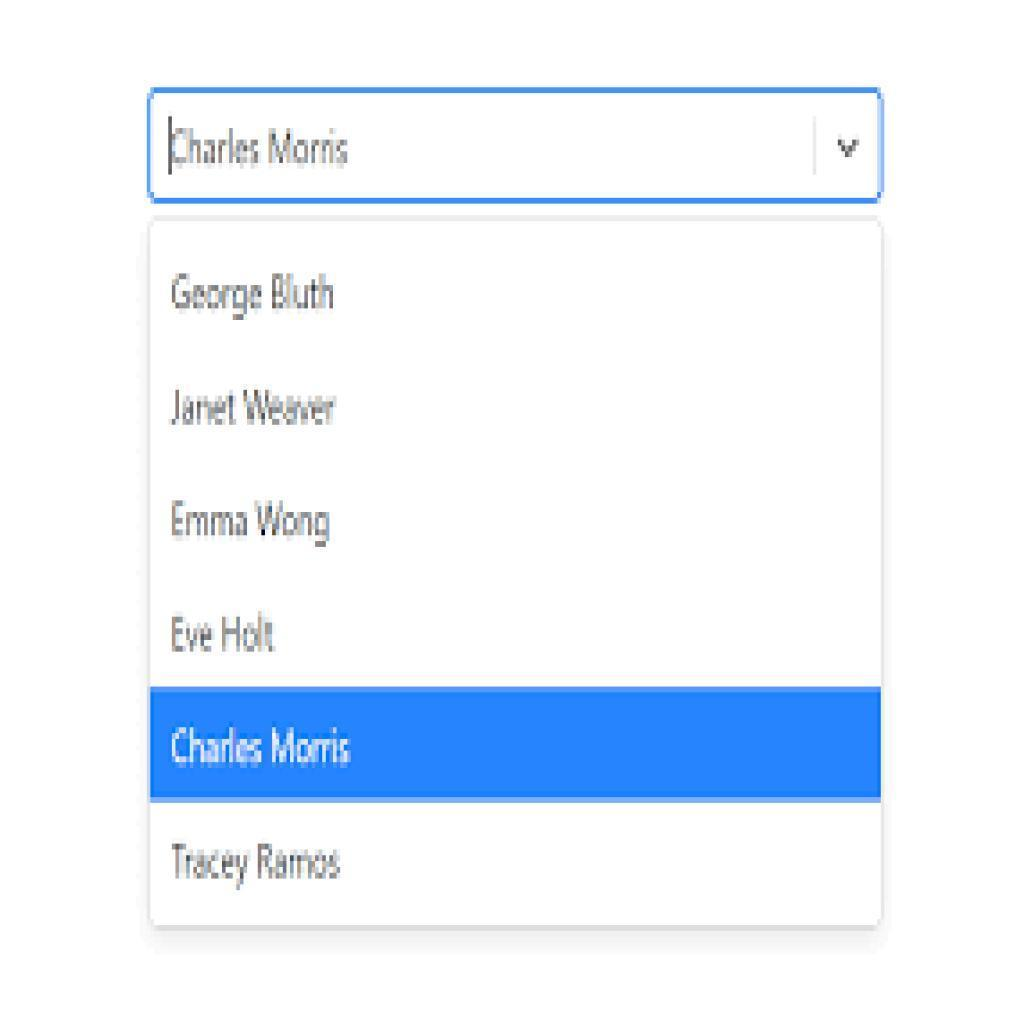button: (152, 688, 883, 803)
dropdown: (151, 91, 882, 202)
